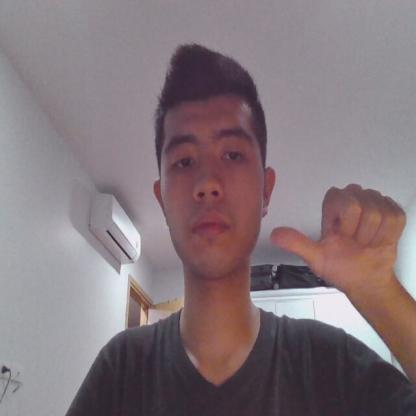right: (270, 182, 408, 295)
